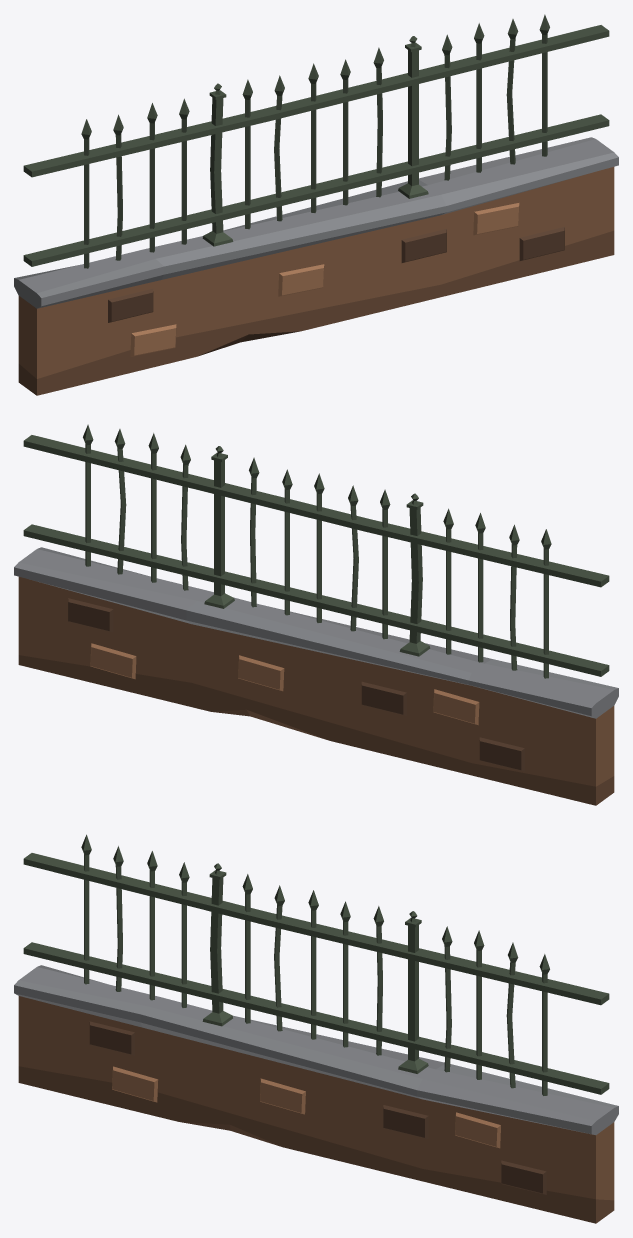
The model's file is SM_Env_Fence_01.glb.
3 renders of one model, top to bottom at view 1: azimuth 30°, elevation 25°; view 2: azimuth 150°, elevation 25°; view 3: azimuth 330°, elevation 25°, orthographic.
Parts seen in each view (by area): view 1: SM_Env_Fence_01; view 2: SM_Env_Fence_01; view 3: SM_Env_Fence_01.
Part boxes in pixels (x1,y1,x2,y2): SM_Env_Fence_01: (14,14,618,395); SM_Env_Fence_01: (14,424,618,805); SM_Env_Fence_01: (14,834,618,1223).
Bounding box in the file's own units: 0.05 × 0.0214 × 0.00445.
Materials: 1 (1 with a texture image).
